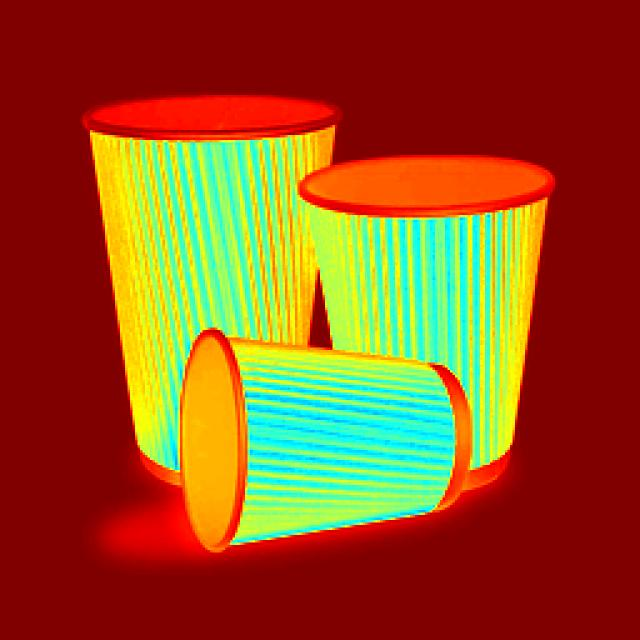Paper Cups: (66, 87, 326, 426), (300, 152, 557, 480), (175, 315, 463, 552)
